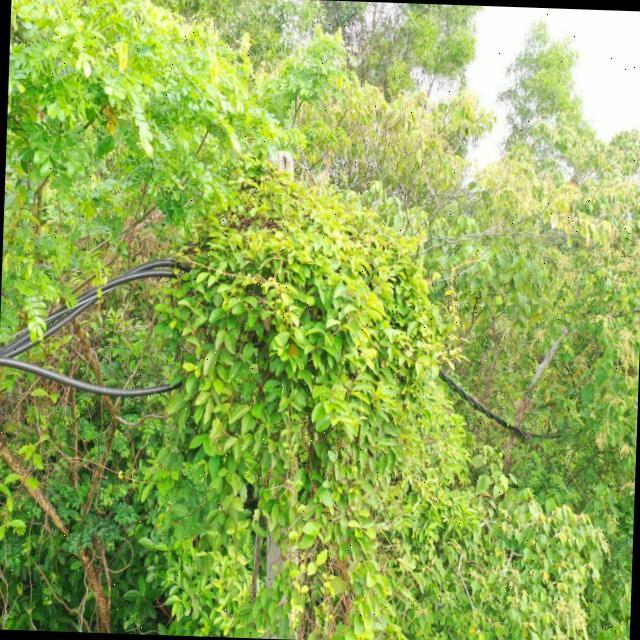critical vegetation: (139, 148, 447, 622)
